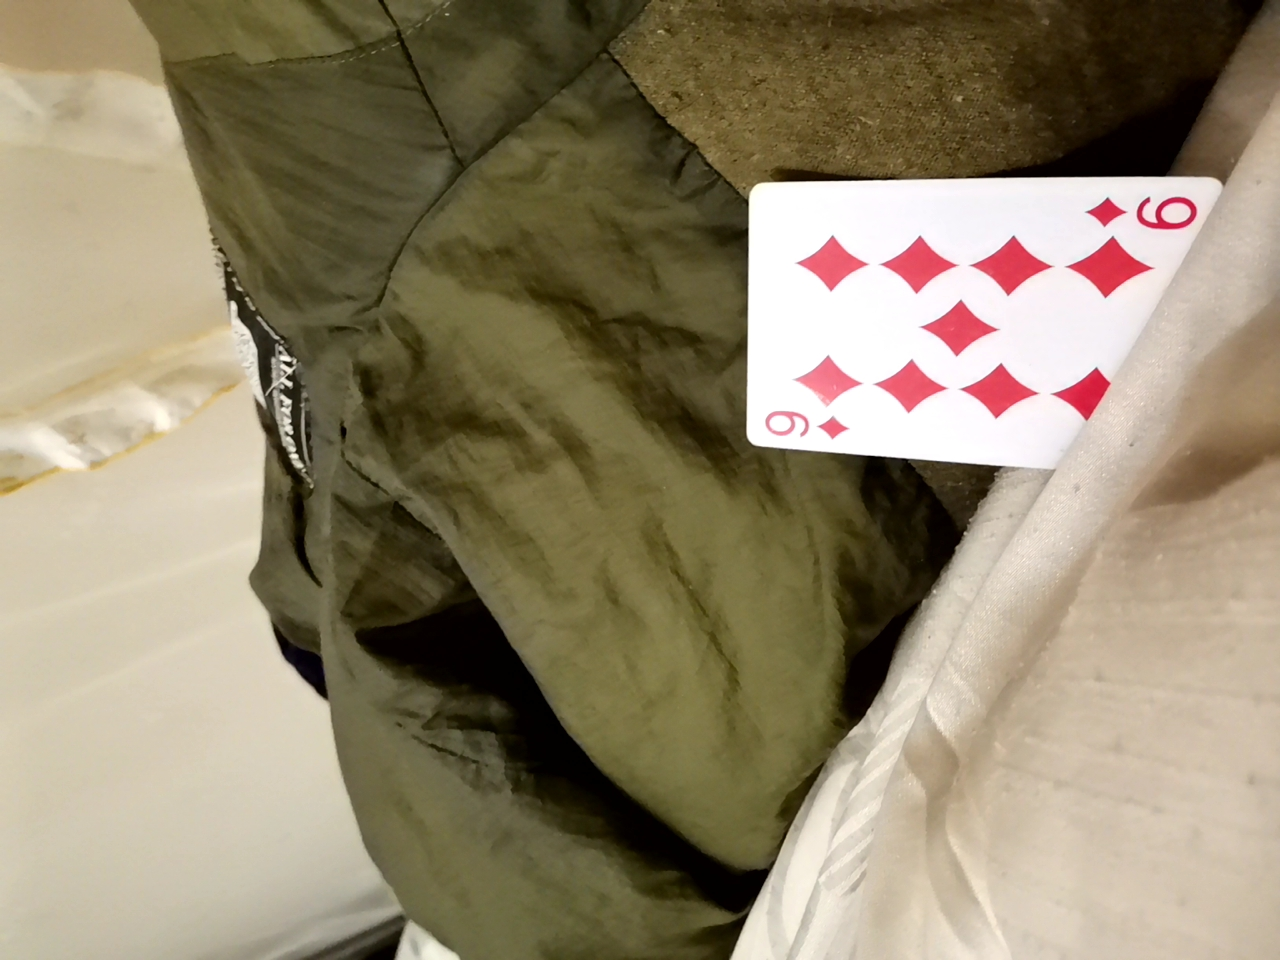fk 9: (721, 177, 1205, 476)
